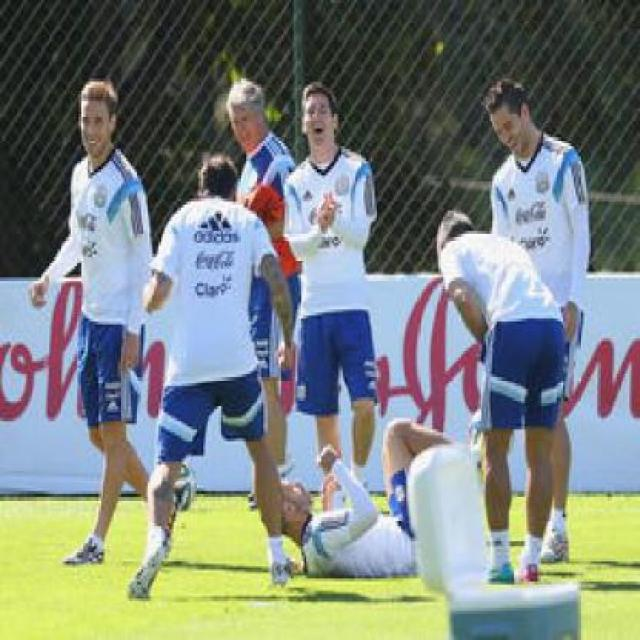fall: (261, 397, 497, 588)
